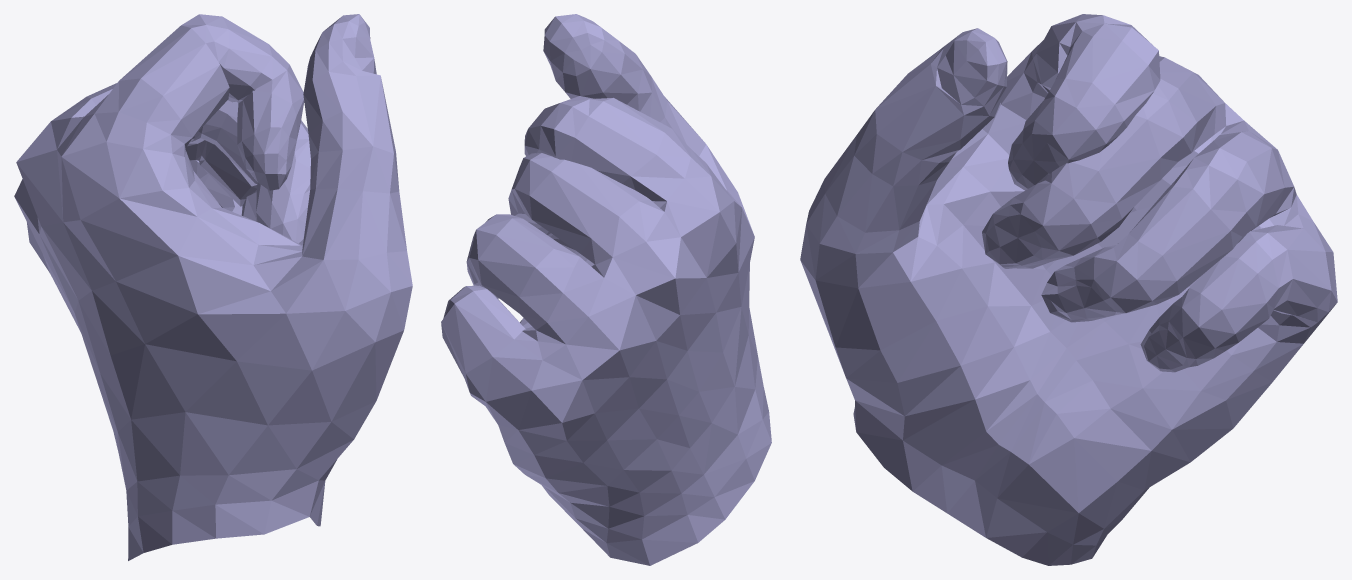
Rendered from frame_0060_source_000060_hand.glb.
The picture shows the model from 3 angles, left to right: view 1: azimuth 30°, elevation 25°; view 2: azimuth 150°, elevation 25°; view 3: azimuth 270°, elevation 25°; orthographic projection. The views are drawn at different scales.
Visible parts, largest first — view 1: world; view 2: world; view 3: world.
Boxes of the visible parts, box(x1,y1,x2,y2) form: world: box(14, 14, 412, 560); world: box(441, 14, 771, 565); world: box(800, 14, 1337, 565).
Bounding box in the file's own units: 0.0589 × 0.1204 × 0.1018.
